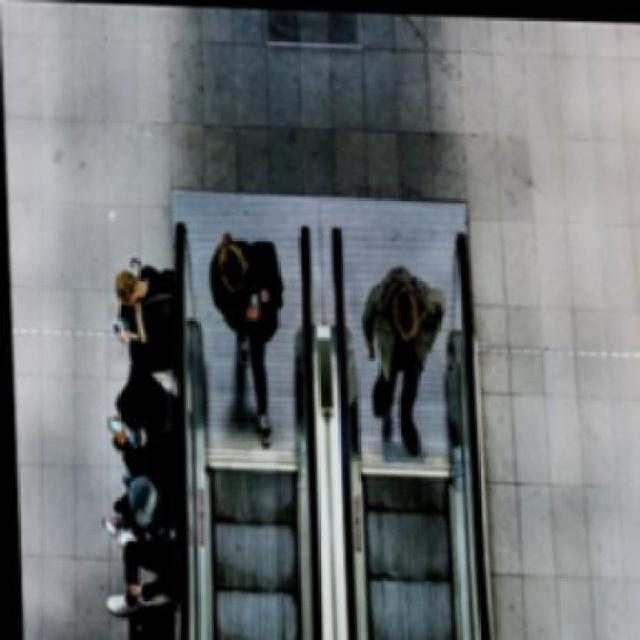Person: (202, 219, 293, 441), (355, 258, 447, 456), (89, 471, 180, 624), (113, 255, 182, 354), (111, 372, 183, 466)
